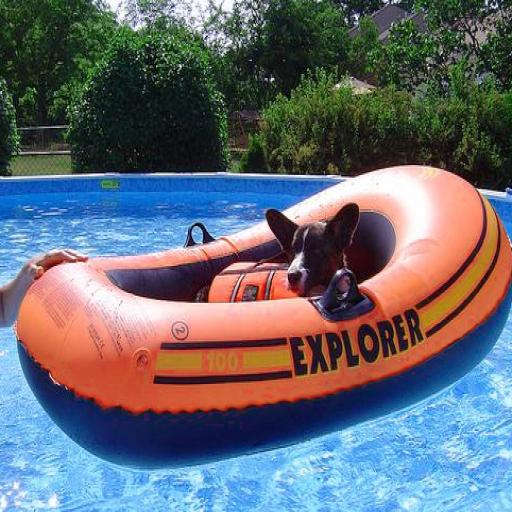dog_face: (261, 202, 358, 296)
